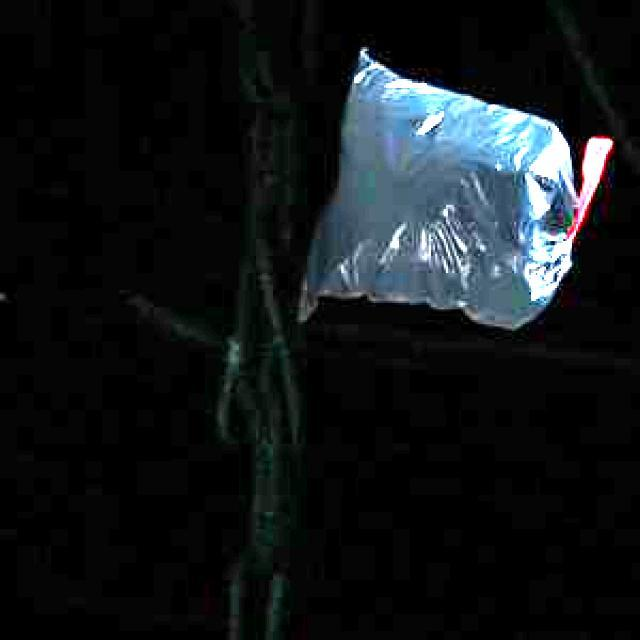Garbage_Bag: (296, 46, 610, 326)
